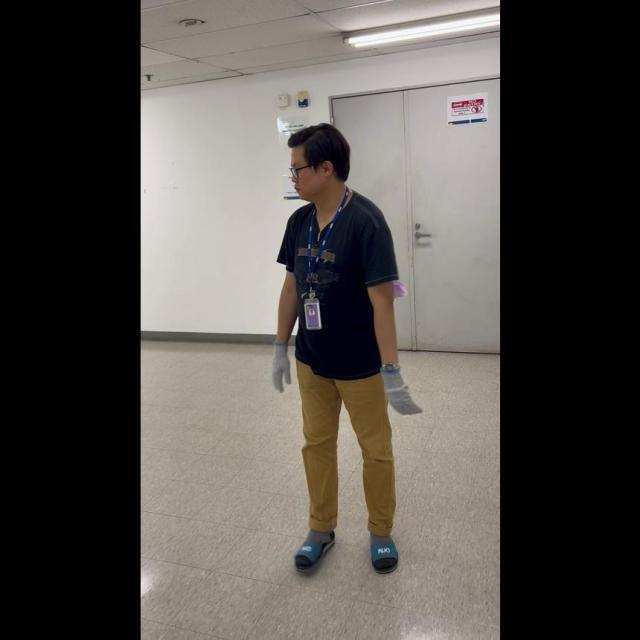gloved_hand: (378, 362, 421, 417), (267, 338, 292, 391)
